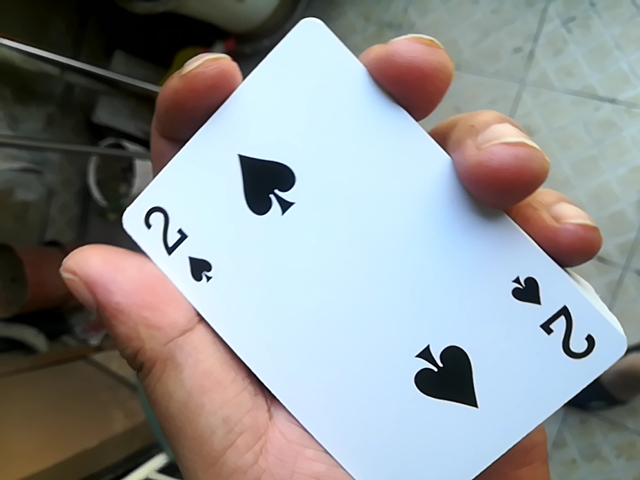ht 2: (105, 18, 615, 480)
